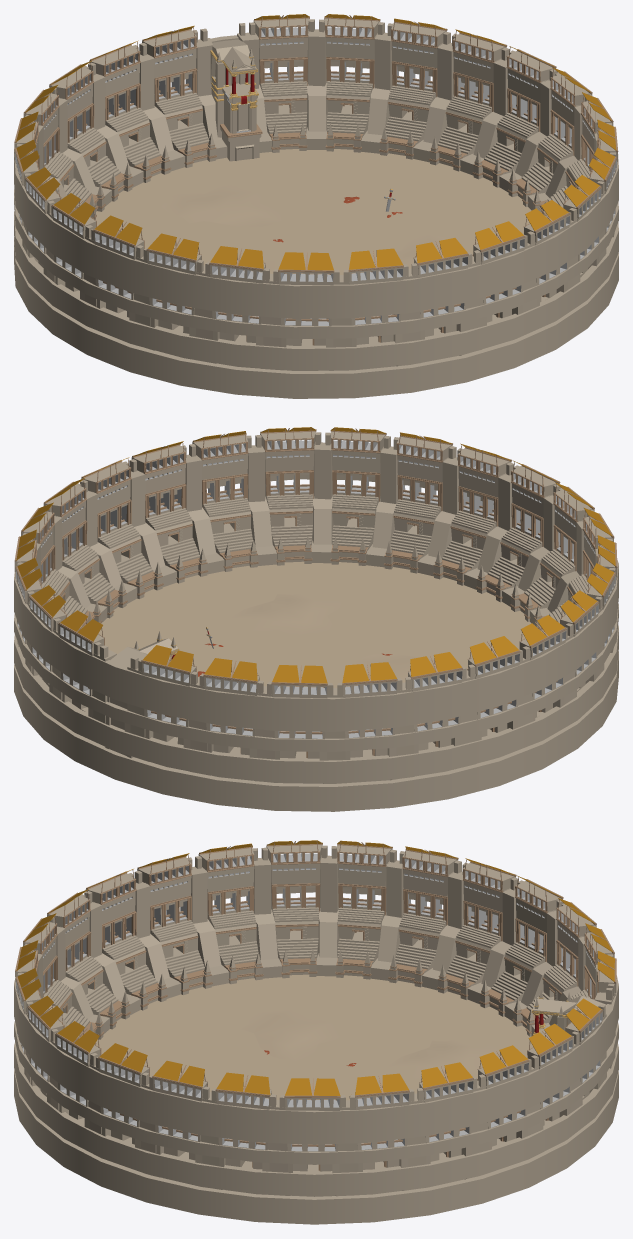
File: arena.glb
3 views of the same model, one above another, from view 1: azimuth 30°, elevation 25°; view 2: azimuth 150°, elevation 25°; view 3: azimuth 270°, elevation 25° (orthographic).
Parts seen in each view (by area): view 1: pCylinder1, pCylinder12, pCylinder13, pCylinder16, pCylinder14, pCylinder15, polySurface30, polySurface29, polySurface31, polySurface54, polySurface32, pCube267 (+41 smaller); view 2: pCylinder1, pCylinder12, pCylinder13, pCylinder16, pCylinder14, pCylinder15, polySurface38, polySurface39, polySurface37, polySurface40, polySurface36, polySurface41 (+43 smaller); view 3: pCylinder1, pCylinder12, pCylinder13, pCylinder16, pCylinder14, pCylinder15, polySurface47, polySurface48, polySurface46, polySurface49, polySurface45, polySurface50 (+40 smaller).
Boxes of the visible parts, x1,y1,x2,y2 form: pCylinder1: (96,149,531,274); pCylinder12: (14,237,618,398); pCylinder13: (14,211,618,370); pCylinder16: (14,35,618,307); pCylinder14: (14,72,618,338); pCylinder15: (14,61,618,318); polySurface30: (324,14,380,149); polySurface29: (253,14,309,149); polySurface31: (385,18,447,155); polySurface54: (142,25,209,162); polySurface32: (437,29,507,166); pCube267: (210,39,262,161); pCylinder1: (98,561,531,687); pCylinder12: (14,651,618,811); pCylinder13: (14,625,618,783); pCylinder16: (14,560,618,720); pCylinder14: (14,485,618,751); pCylinder15: (14,474,618,731); polySurface38: (260,427,316,562); polySurface39: (330,427,386,563); polySurface37: (192,431,252,567); polySurface40: (390,432,452,569); polySurface36: (131,441,200,578); polySurface41: (441,443,512,580); pCylinder1: (95,974,533,1100); pCylinder12: (14,1070,618,1224); pCylinder13: (14,1042,618,1196); pCylinder16: (14,975,618,1133); pCylinder14: (14,900,618,1164); pCylinder15: (14,887,618,1144); polySurface47: (266,840,322,975); polySurface48: (337,840,392,976); polySurface46: (198,843,258,980); polySurface49: (395,846,458,983); polySurface45: (137,853,204,990); polySurface50: (445,858,516,995).
Size of the model in its own units: 42.79 by 10.72 by 42.79.
